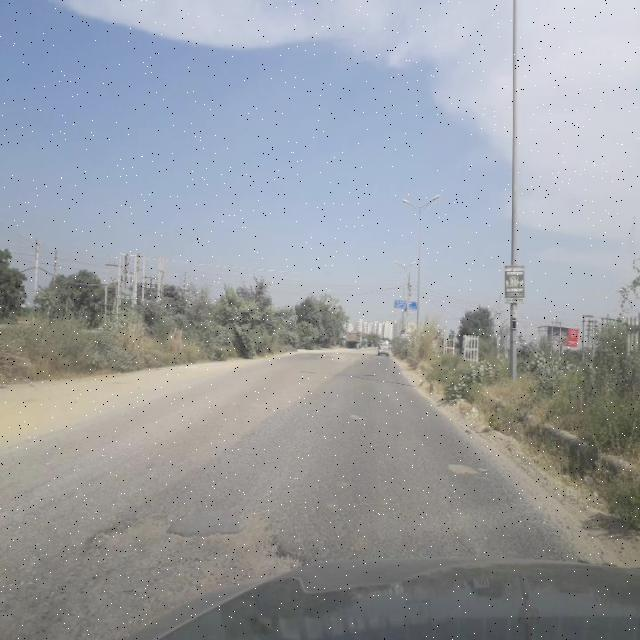D40: (20, 488, 306, 604)
